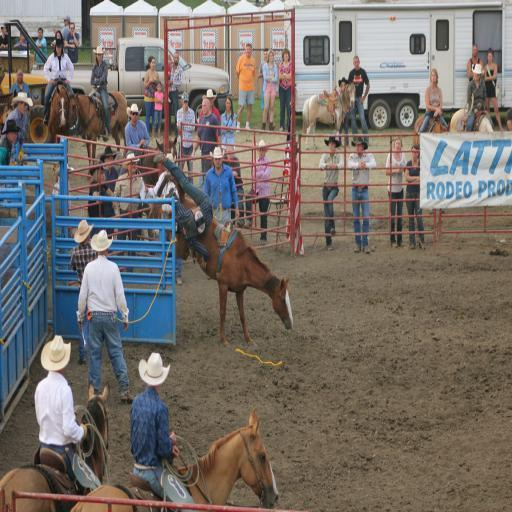horse: (70, 406, 281, 512), (165, 188, 293, 352), (0, 378, 112, 512), (68, 92, 129, 170), (301, 80, 357, 154), (410, 113, 450, 153), (47, 82, 68, 148), (447, 110, 494, 134)
